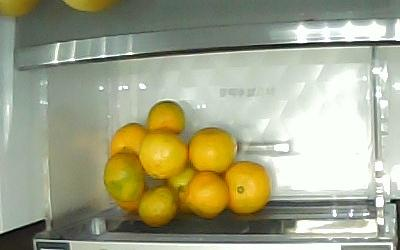tangerine: (137, 126, 189, 180), (222, 159, 271, 214), (186, 125, 237, 174), (183, 169, 229, 219), (102, 149, 145, 202), (166, 165, 202, 214), (137, 184, 177, 226), (106, 120, 149, 159), (142, 99, 186, 137)
